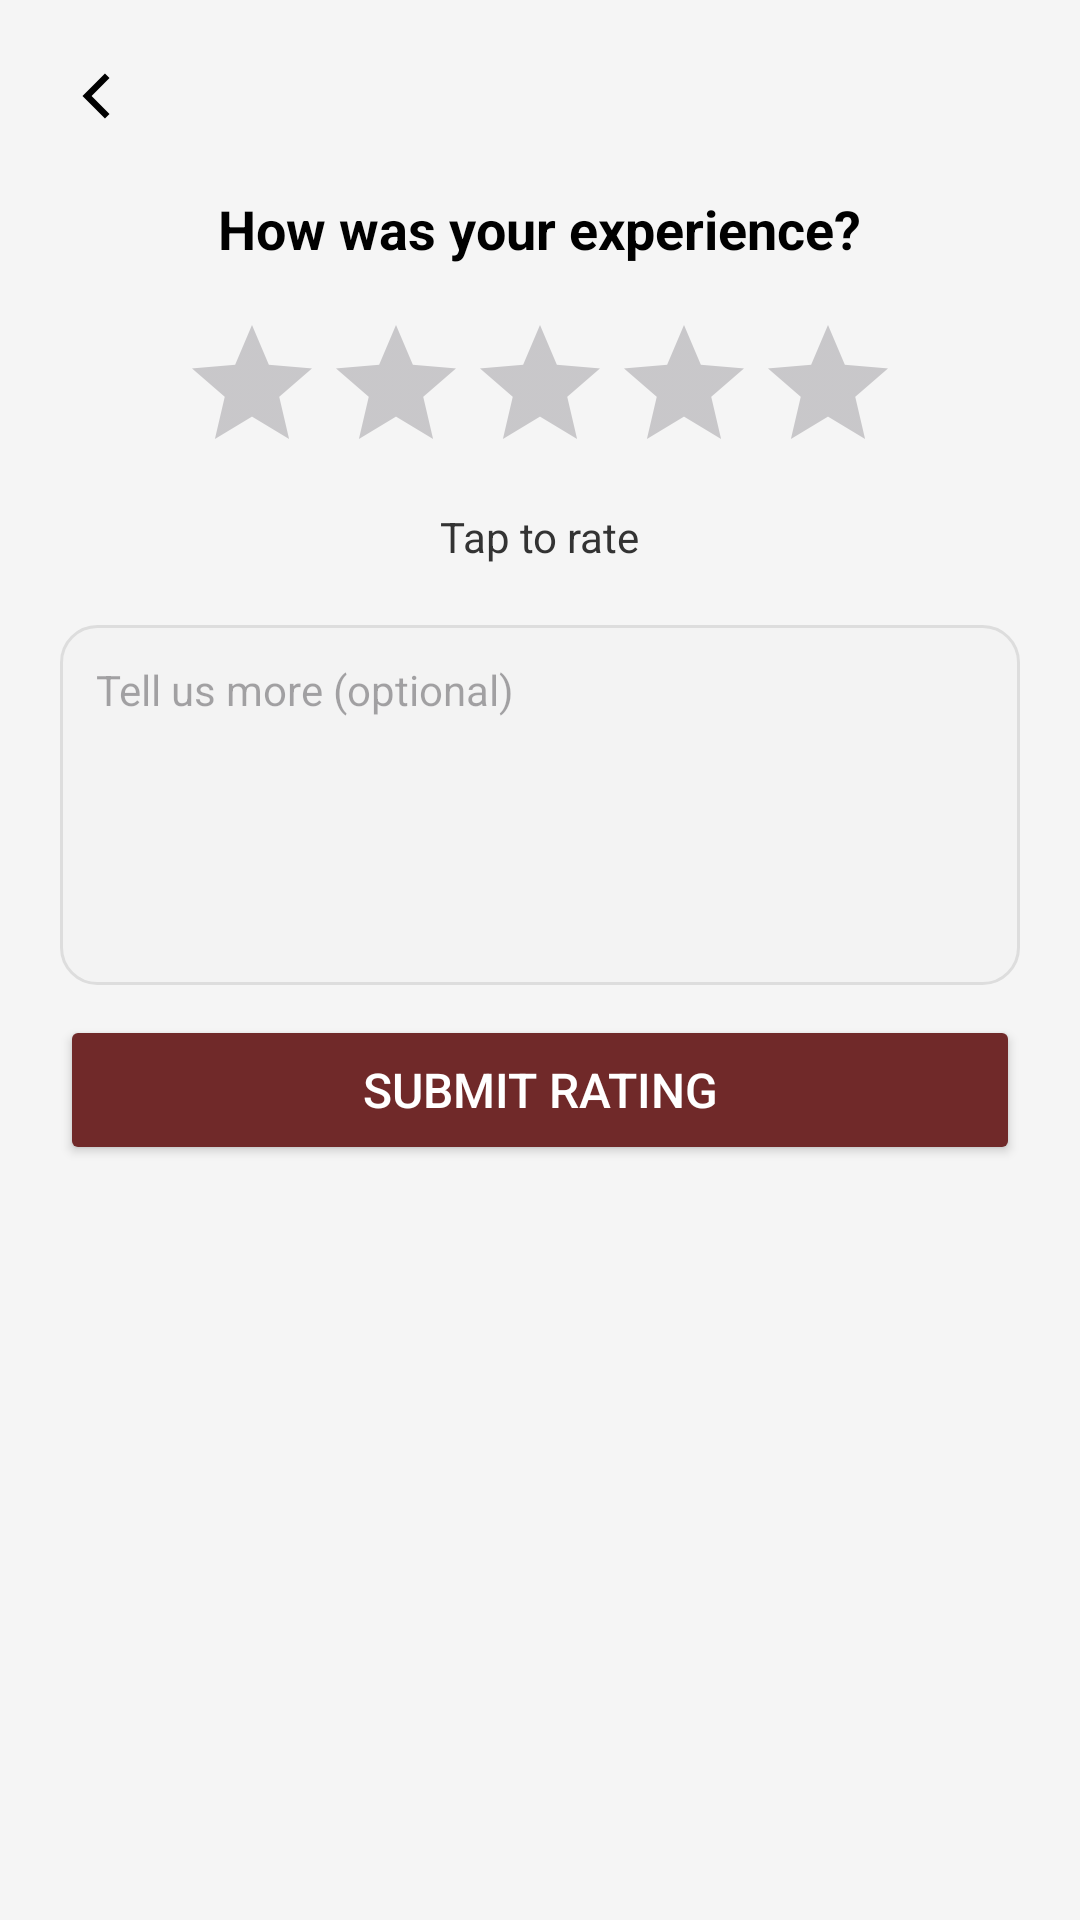

Screen size 1080×1920. Icon name, then its box in pixels as box=[x1, y1, x2, y2]:
back arrow: box=[82, 73, 110, 119]
